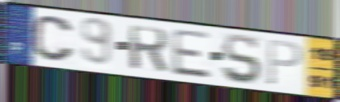9: (80, 15, 113, 70)
C: (30, 14, 76, 64)
E: (171, 27, 213, 81)
P: (265, 38, 305, 88)
R: (127, 24, 170, 76)
S: (221, 33, 263, 86)
